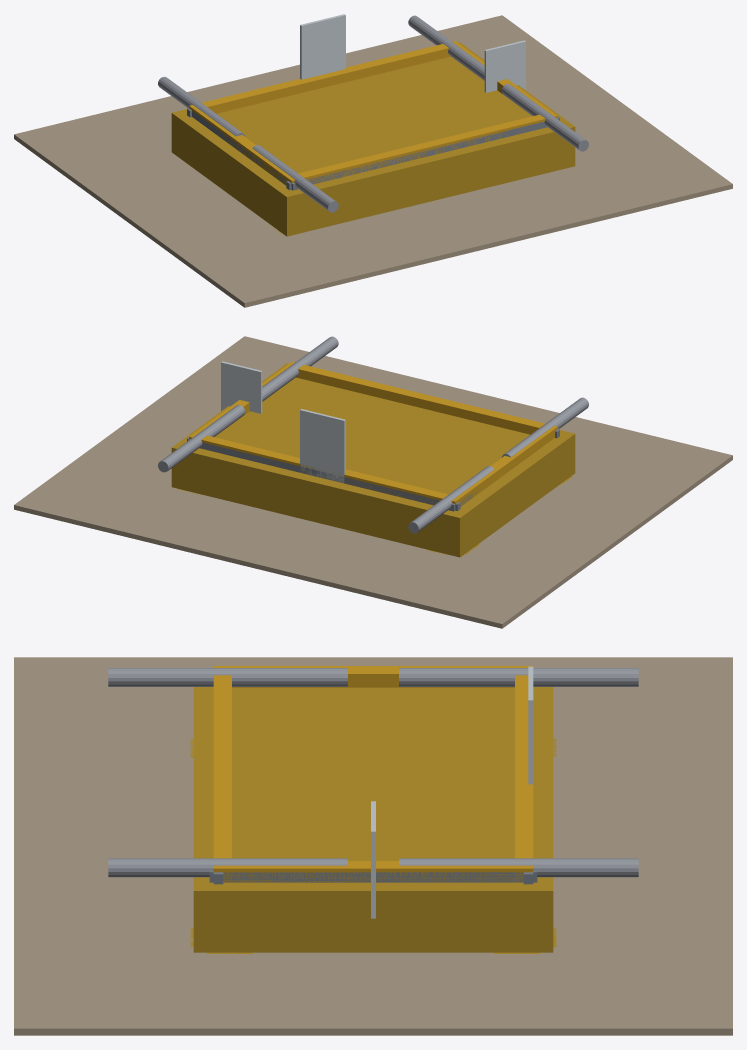
File: stage_07_openings.glb
The picture shows the model from 3 angles, top to bottom: view 1: azimuth 30°, elevation 25°; view 2: azimuth 150°, elevation 25°; view 3: azimuth 270°, elevation 25°; orthographic projection. The views are drawn at different scales.
Visible parts, largest first — view 1: world; view 2: world; view 3: world.
Boxes of the visible parts, <box> form: world: <box>14,14,732,307</box>; world: <box>14,336,732,628</box>; world: <box>14,657,732,1035</box>.
Size of the model in its own units: 11 by 3 by 9.
